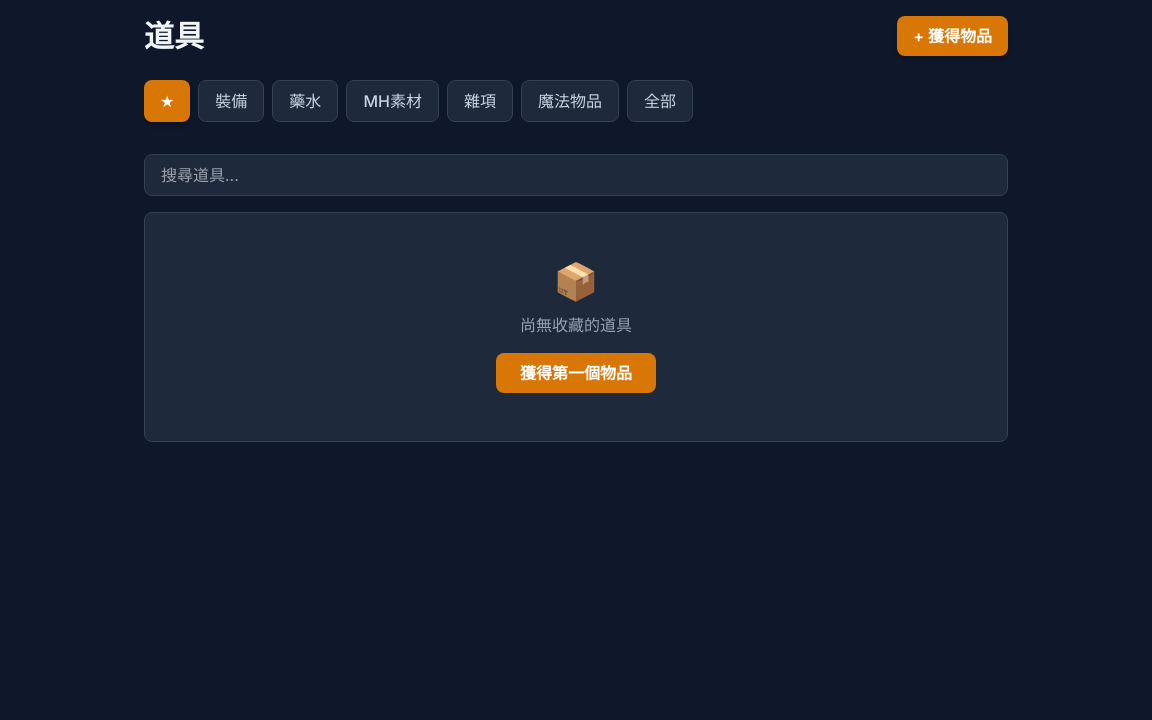
Test case: ItemsPage - toast 實際顯示 › 獲得數量確定後，畫面上要實際出現「已加入 X × N」的 toast
Step 1. Click the button "+ 獲得物品" → (953, 36), box [897,16,1008,56]
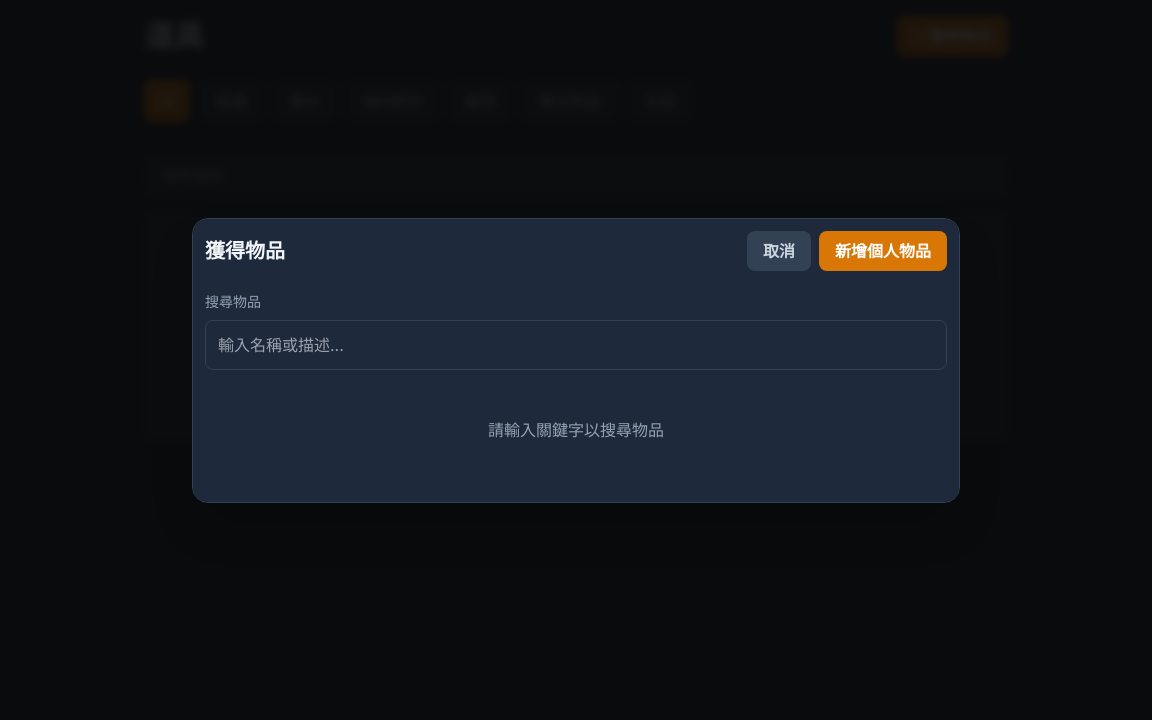
Check: the field with placeholder "輸入名稱或描述..." is shown
Step 2. Type "解毒草" into the field with placeholder "輸入名稱或描述..." → (576, 344), box [205,320,947,370]
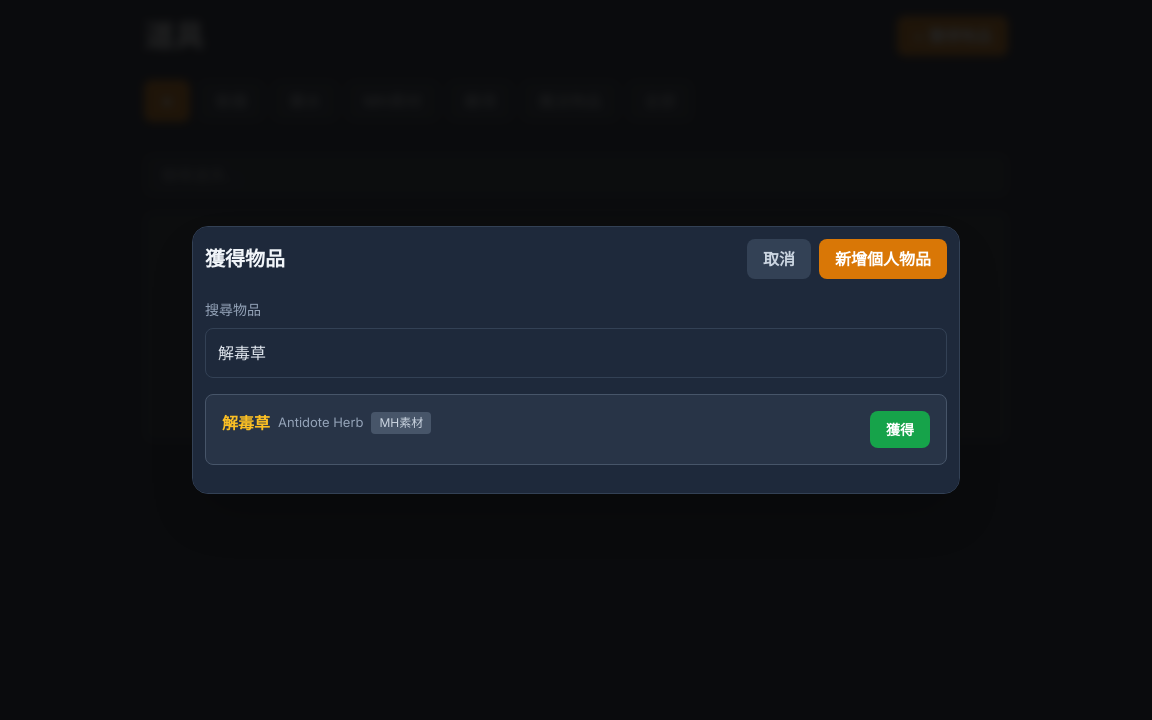
Check: the button "獲得" is shown
Step 3. Click the button "獲得" → (900, 430), box [870,411,930,448]
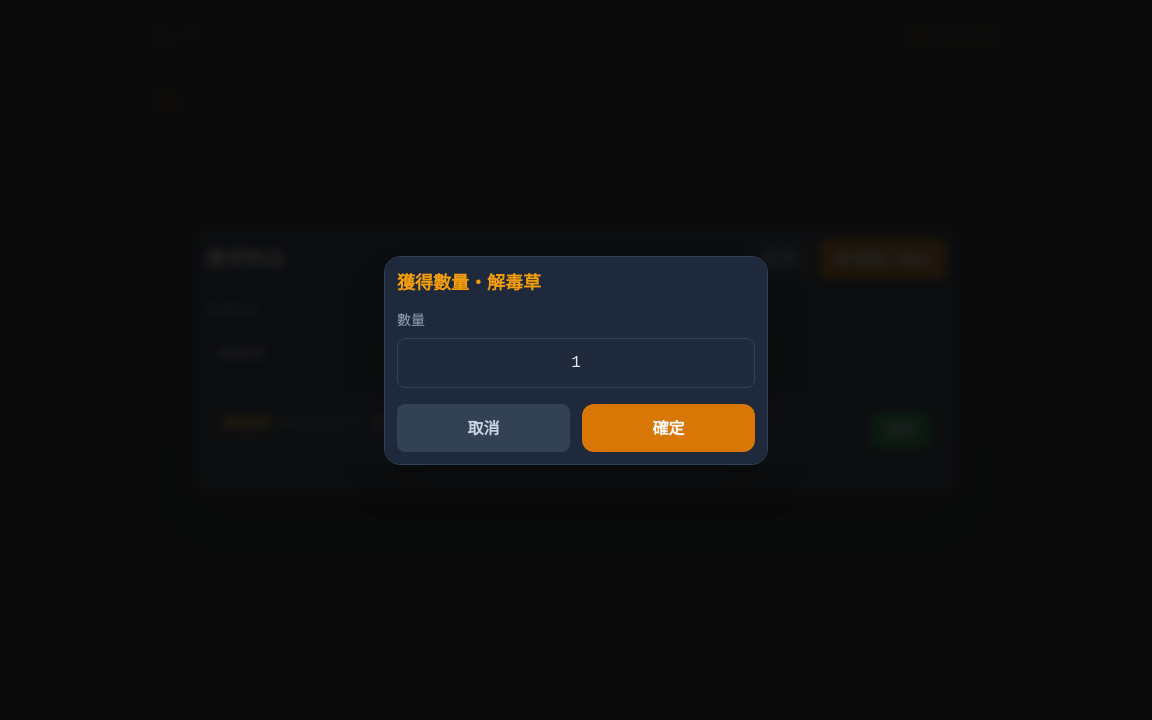
Step 4. Click the button "確定" → (668, 428), box [582,404,755,452]
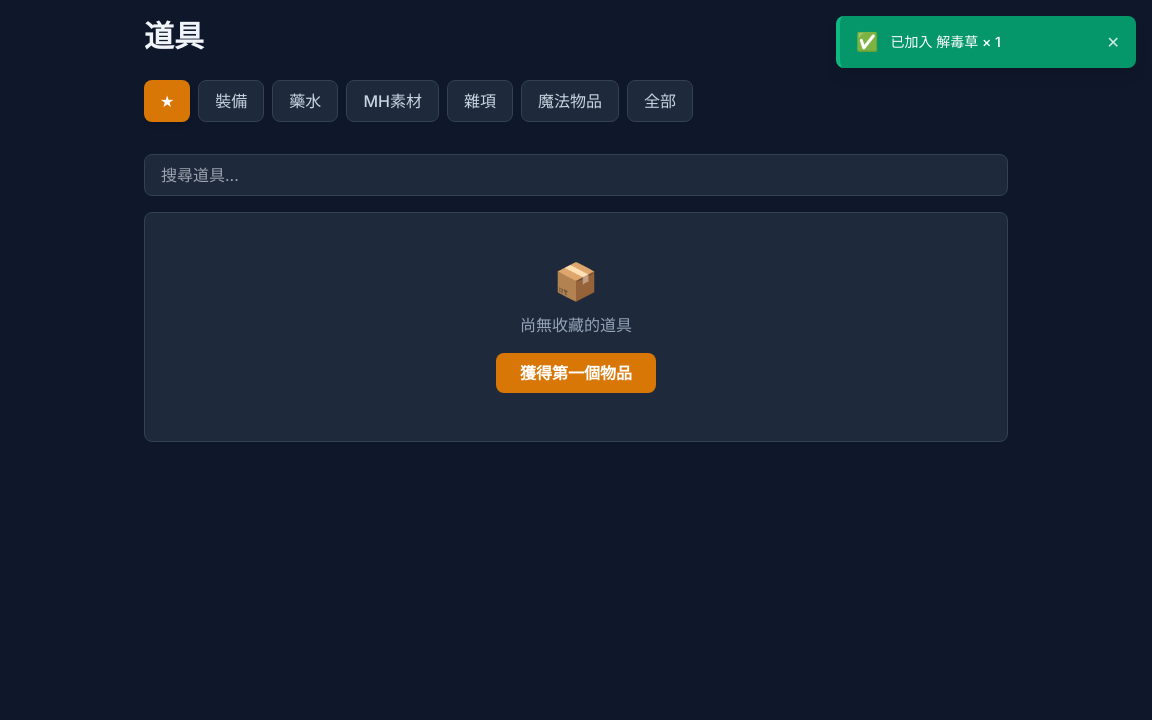
Check: the text "已加入 解毒草 × 1" is shown, box [890,33,1001,50]
